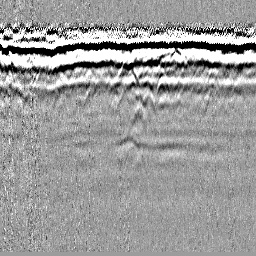cavity: (115, 53, 140, 86)
